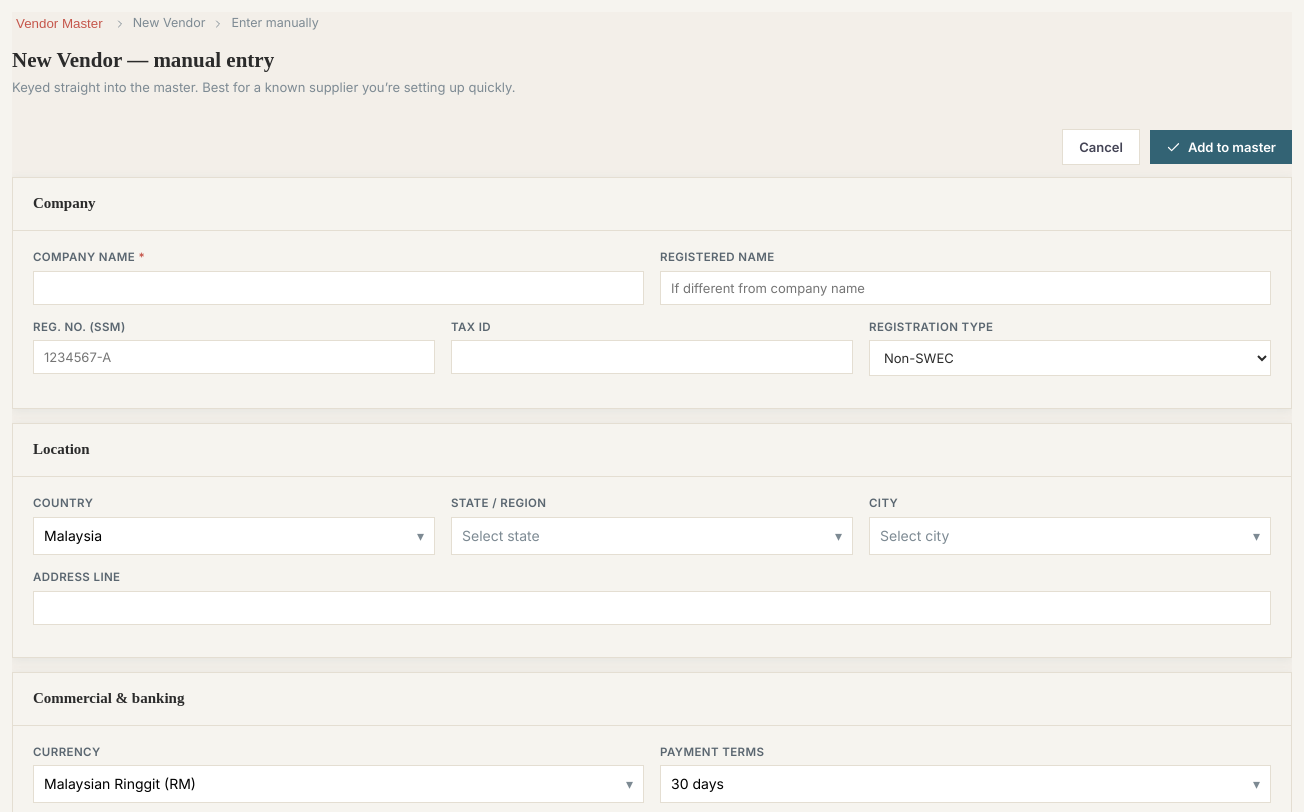
it: ManualVendorForm (Bug 3) › surfaces a duplicate warning without navigating away
Type "Dup Co" into the field labelled "Company name".
click(338, 288); type("Dup Co")  # box x1=33 y1=271 x2=644 y2=305
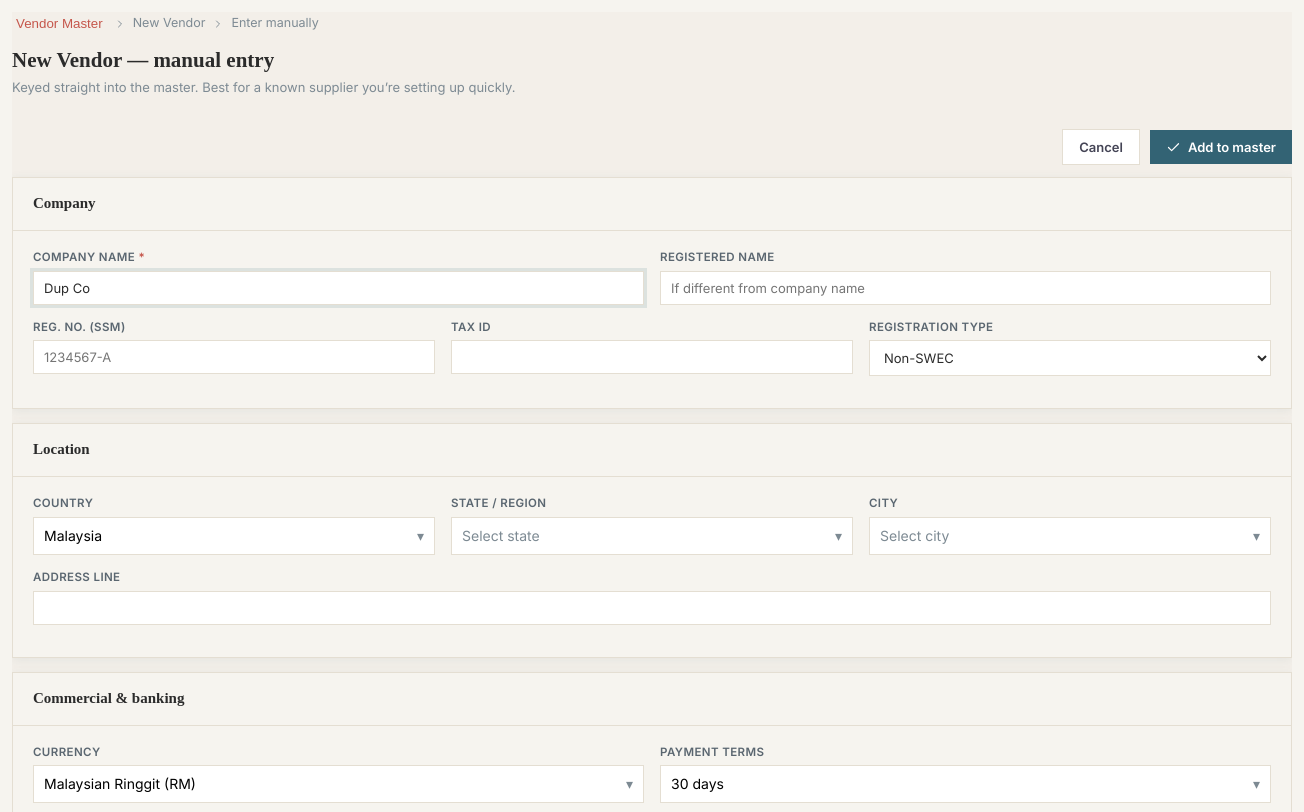
Click the button "Add to master".
click(1221, 147)  # box x1=1150 y1=130 x2=1292 y2=164
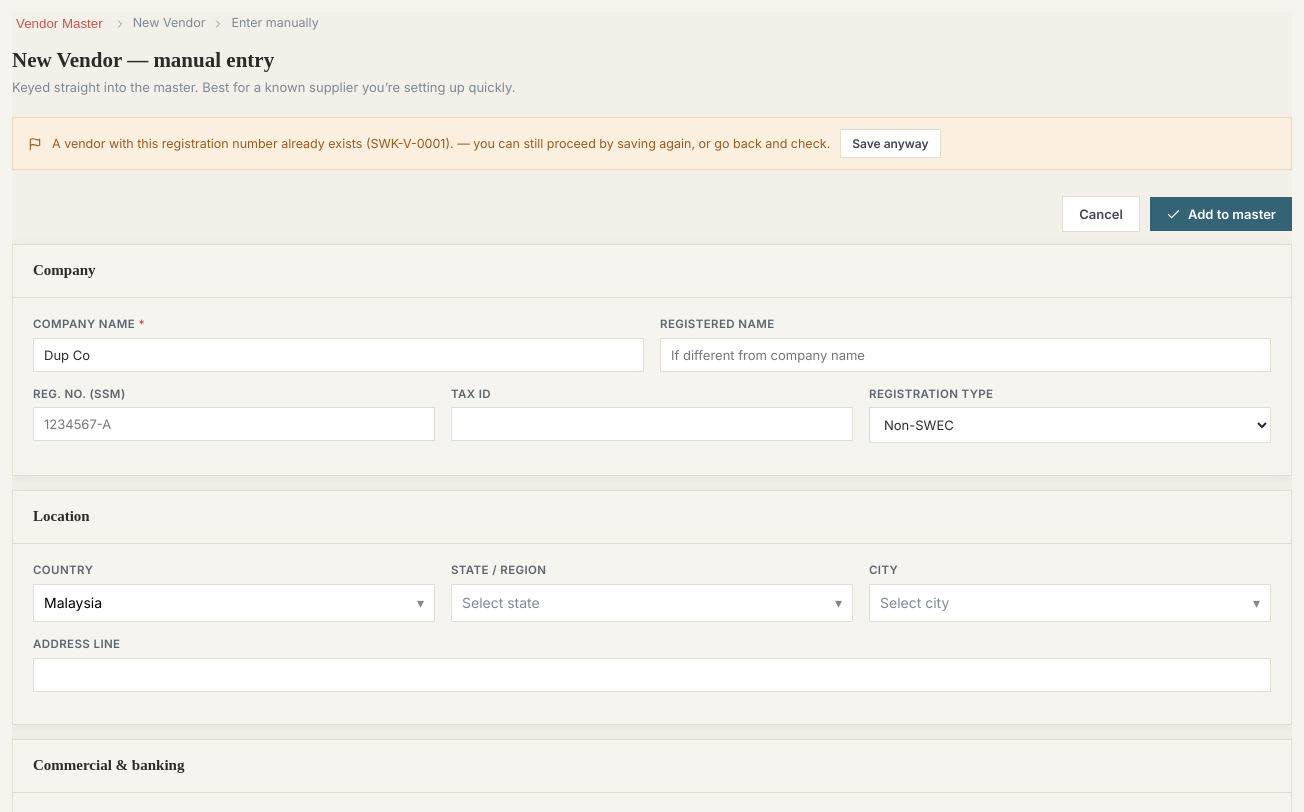
Check: the text "already exists" is shown, box x1=52 y1=136 x2=454 y2=151
